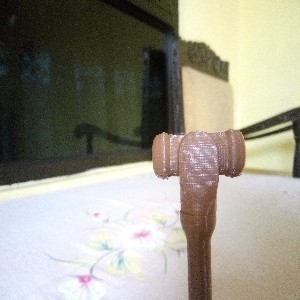palu: (152, 128, 247, 300)
